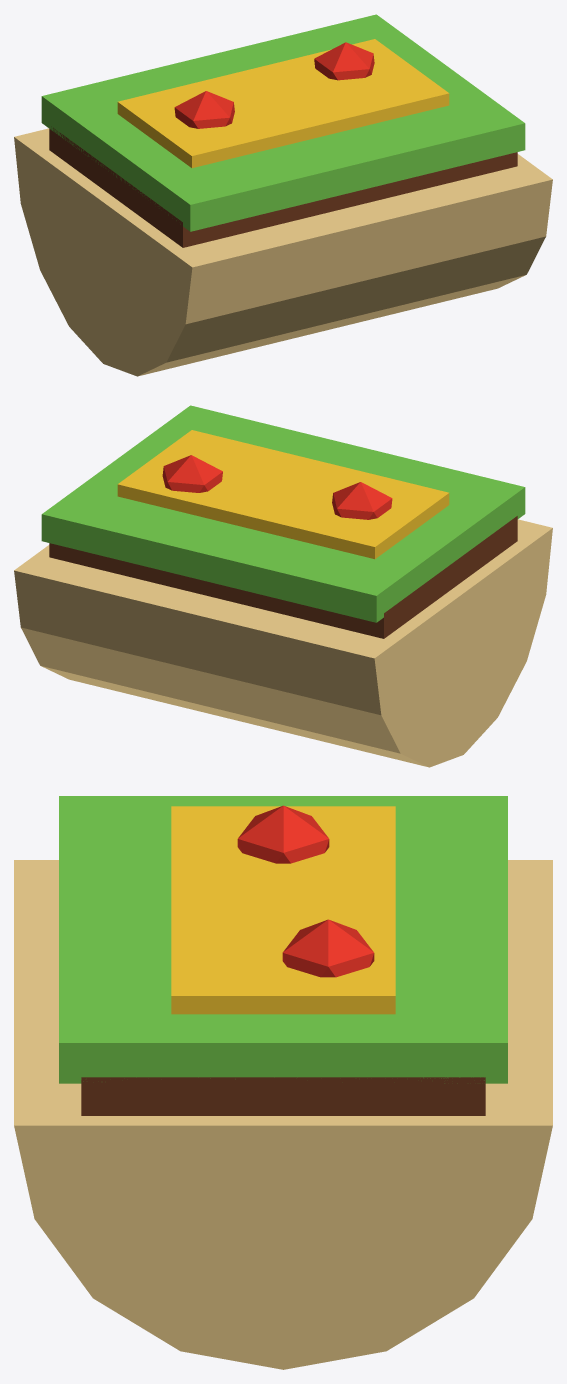
Rendered from taco.glb.
3 renders of one model, top to bottom at view 1: azimuth 30°, elevation 25°; view 2: azimuth 150°, elevation 25°; view 3: azimuth 270°, elevation 25°, orthographic. The views are drawn at different scales.
Visible parts, largest first — view 1: taco; view 2: taco; view 3: taco.
Boxes of the visible parts, bbox=[...] form: taco: bbox=[14, 14, 552, 376]; taco: bbox=[14, 405, 552, 767]; taco: bbox=[14, 796, 552, 1369].
Size of the model in its own units: 0.14 by 0.092 by 0.12.
